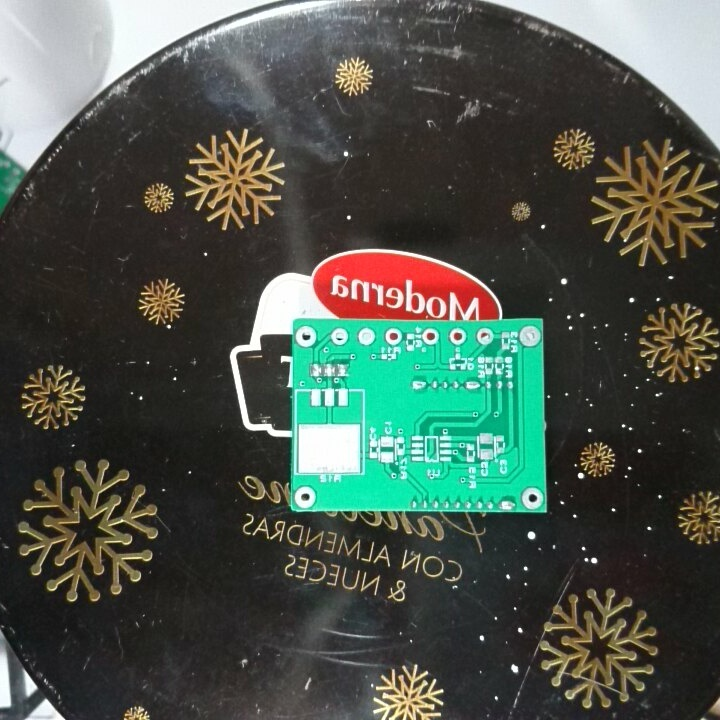F: (293, 485, 319, 509), (520, 485, 545, 509), (516, 325, 540, 349), (295, 323, 317, 346), (474, 326, 497, 347), (446, 326, 468, 346), (382, 326, 404, 346), (420, 327, 441, 347), (356, 326, 377, 346), (329, 326, 348, 347)
P: (462, 377, 482, 393), (497, 498, 518, 513), (408, 378, 428, 392)
